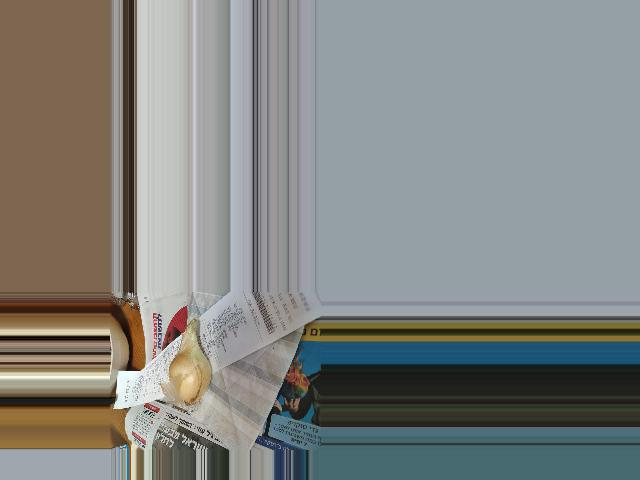onion: (171, 326, 209, 404)
